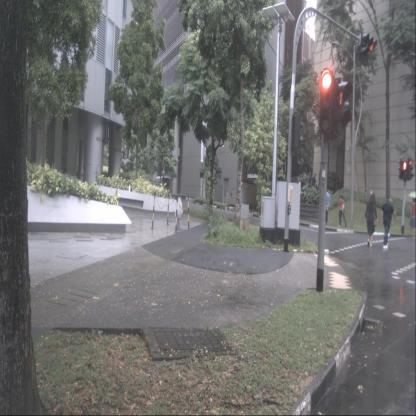human-pedestrian-adult: (381, 193, 396, 250), (364, 192, 378, 248), (408, 191, 416, 237), (324, 188, 332, 225), (340, 195, 347, 228), (338, 194, 343, 227), (312, 174, 317, 200), (308, 174, 313, 195), (297, 179, 301, 204)
vehicle-car: (154, 175, 173, 193)
